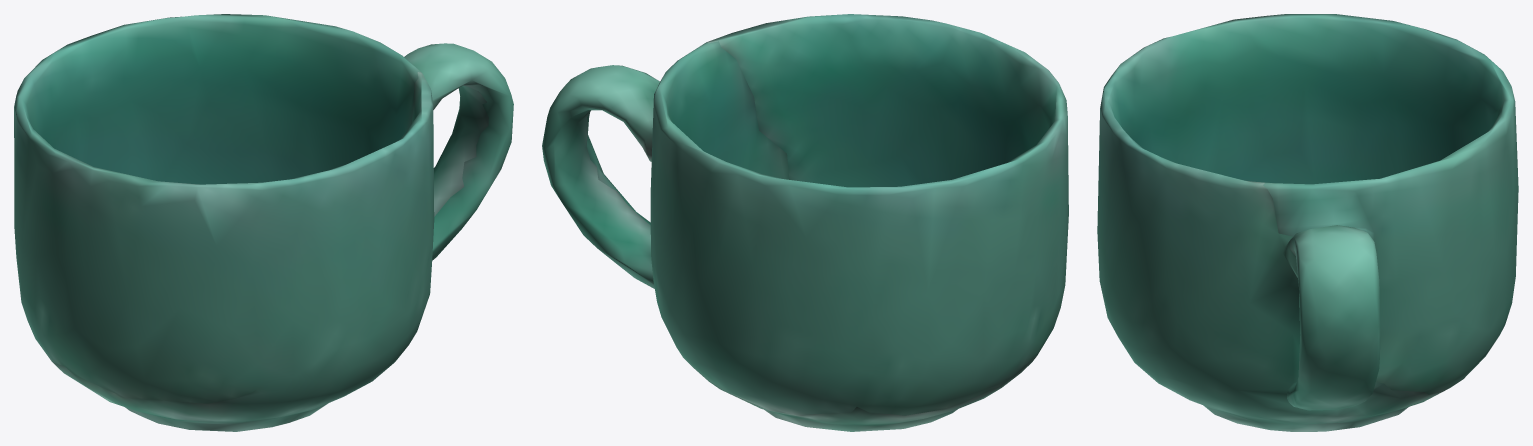
Rendered from Cole_Hardware_Mug_Classic_Blue-medium.glb.
The picture shows the model from 3 angles, left to right: view 1: azimuth 30°, elevation 25°; view 2: azimuth 150°, elevation 25°; view 3: azimuth 270°, elevation 25°; orthographic projection.
Visible parts, largest first — view 1: Cole_Hardware_Mug_Classic_Blue; view 2: Cole_Hardware_Mug_Classic_Blue; view 3: Cole_Hardware_Mug_Classic_Blue.
Boxes of the visible parts, x1,y1,x2,y2 form: Cole_Hardware_Mug_Classic_Blue: [14, 14, 513, 431]; Cole_Hardware_Mug_Classic_Blue: [542, 14, 1068, 431]; Cole_Hardware_Mug_Classic_Blue: [1097, 14, 1518, 431].
Size of the model in its own units: 0.1654 by 0.0947 by 0.1254.
1 material, 1 textured.
